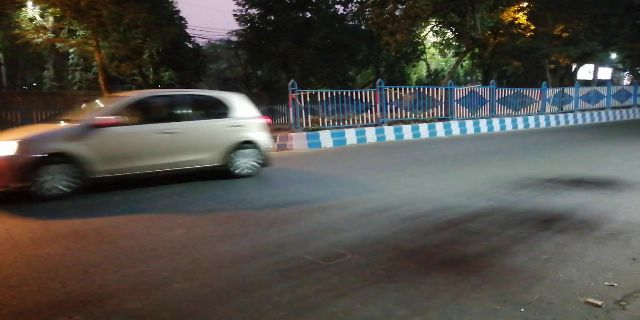Car: (5, 84, 275, 193)
